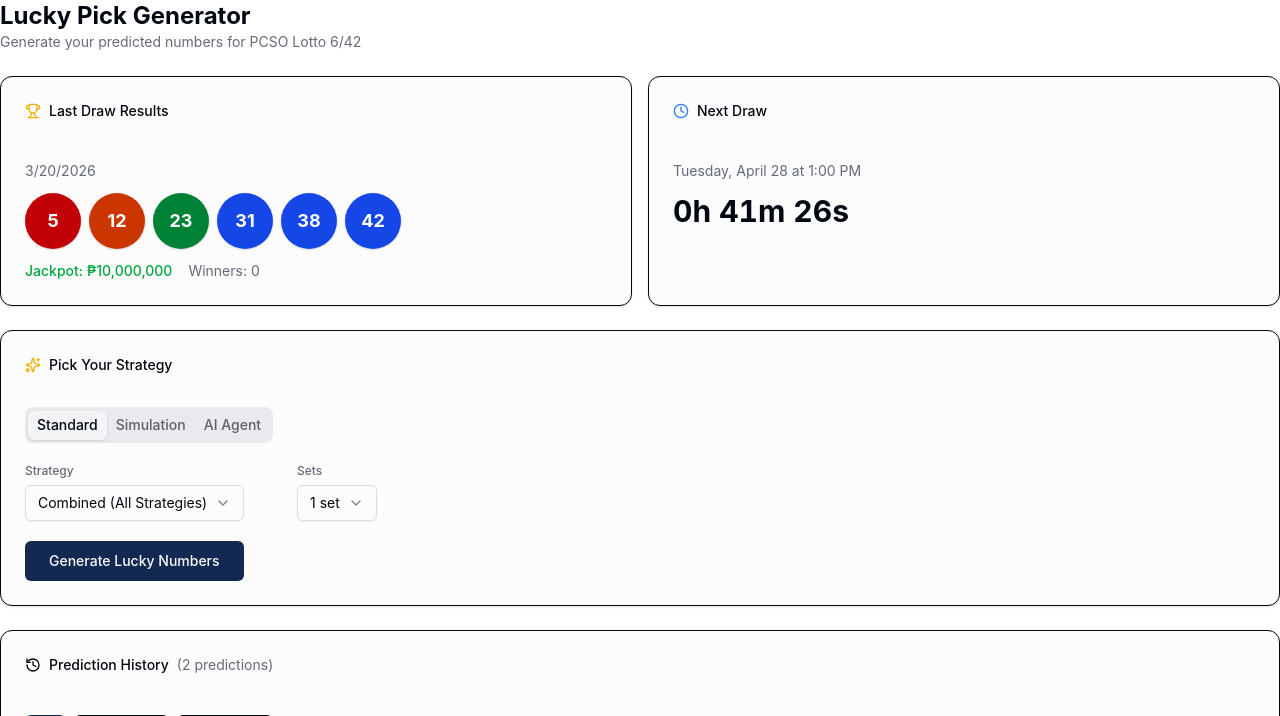
it: LuckyPickPage › Simulation tab shows veteran combobox, not personality select
Click the tab "Simulation".
click(151, 425)  # box [107,410,195,440]
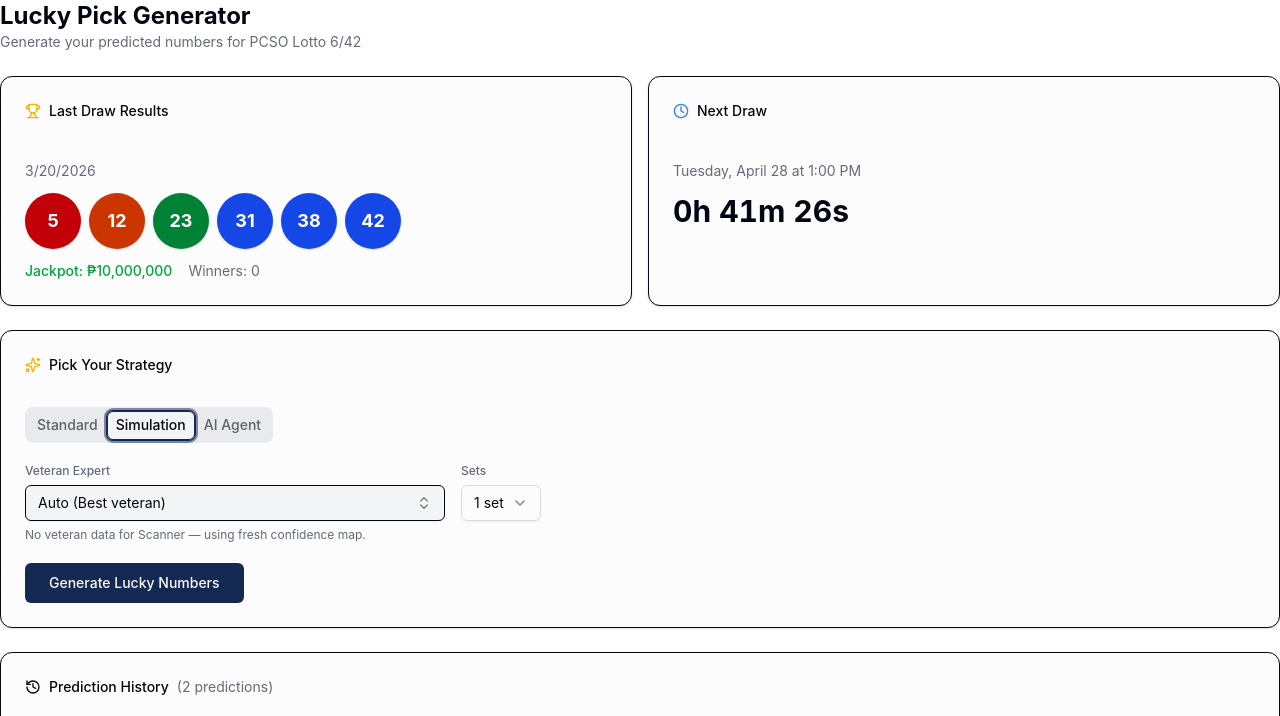
Expected: the text "Veteran Expert" is shown, [25,463,110,478]
